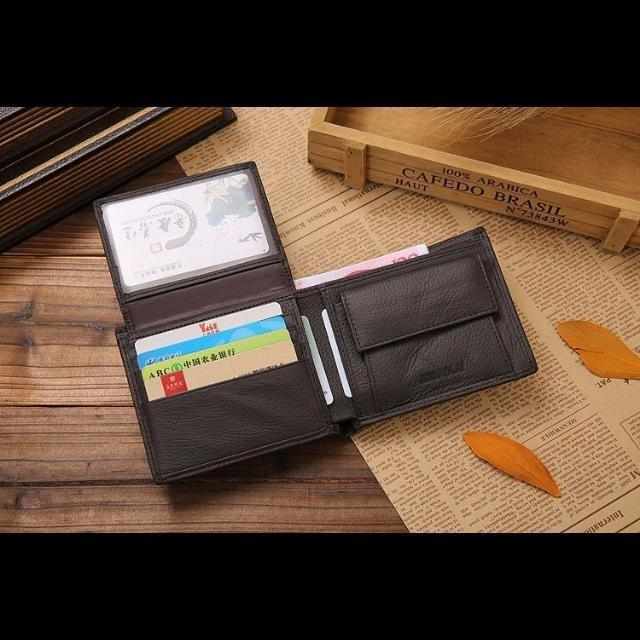Wallet: (95, 163, 537, 483)
